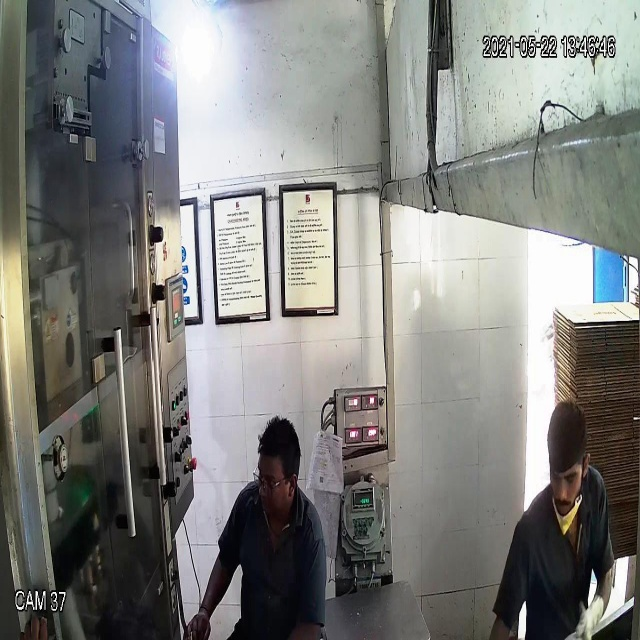Gafas: (249, 467, 296, 498)
Sin_gafas: (547, 466, 585, 493)
